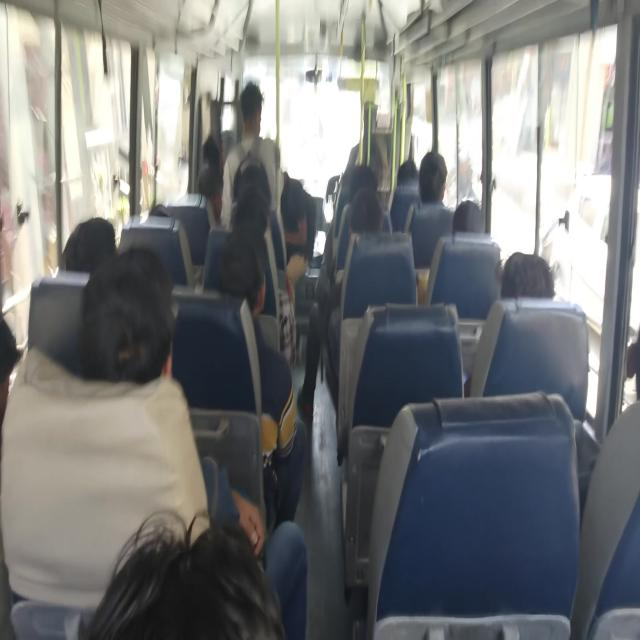person: (1, 240, 307, 638), (78, 245, 266, 556), (79, 508, 287, 638), (216, 231, 306, 528), (296, 164, 381, 421), (467, 250, 557, 394), (220, 81, 280, 230), (280, 174, 310, 307), (61, 216, 118, 274), (499, 250, 556, 298), (445, 150, 480, 208), (418, 150, 448, 207), (452, 199, 484, 233), (396, 159, 419, 187)
